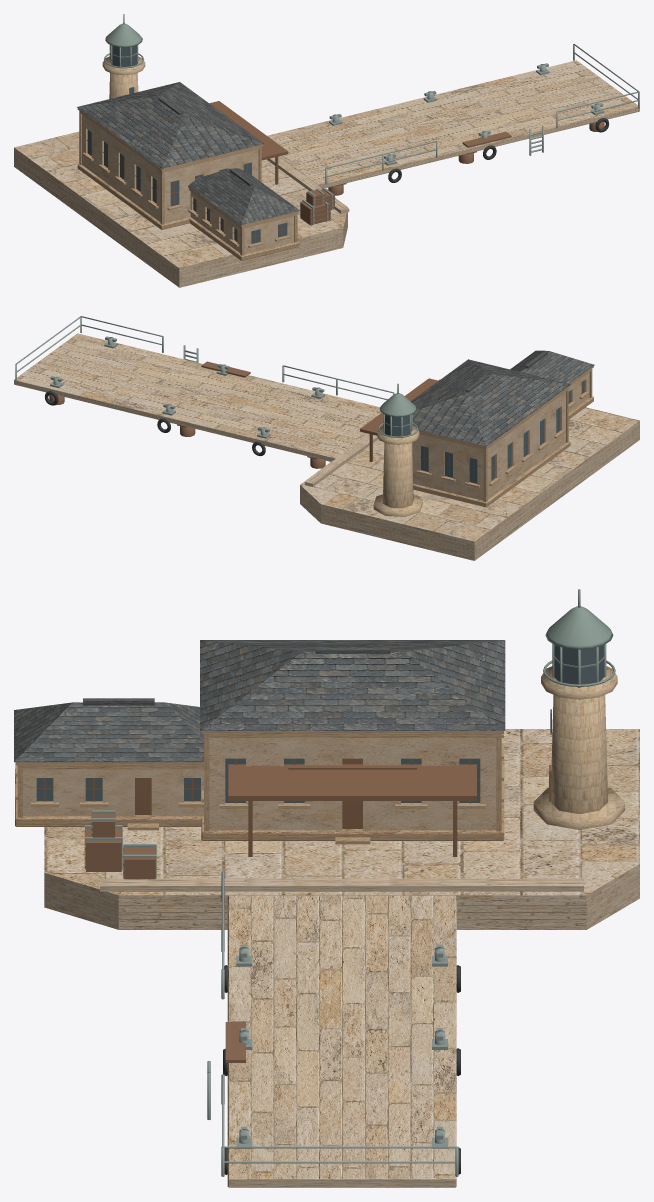
The model's file is shore_terminal.gltf.
The picture shows the model from 3 angles, top to bottom: view 1: azimuth 30°, elevation 25°; view 2: azimuth 150°, elevation 25°; view 3: azimuth 270°, elevation 25°; orthographic projection. The views are drawn at different scales.
Visible parts, largest first — view 1: shore_terminal; view 2: shore_terminal; view 3: shore_terminal.
Part boxes in pixels (bbox=[...]): shore_terminal: bbox=[14, 14, 639, 287]; shore_terminal: bbox=[14, 316, 639, 560]; shore_terminal: bbox=[14, 589, 639, 1187].
Size of the model in its own units: 1 by 0.265 by 0.5885.
5 materials, 1 textured.
